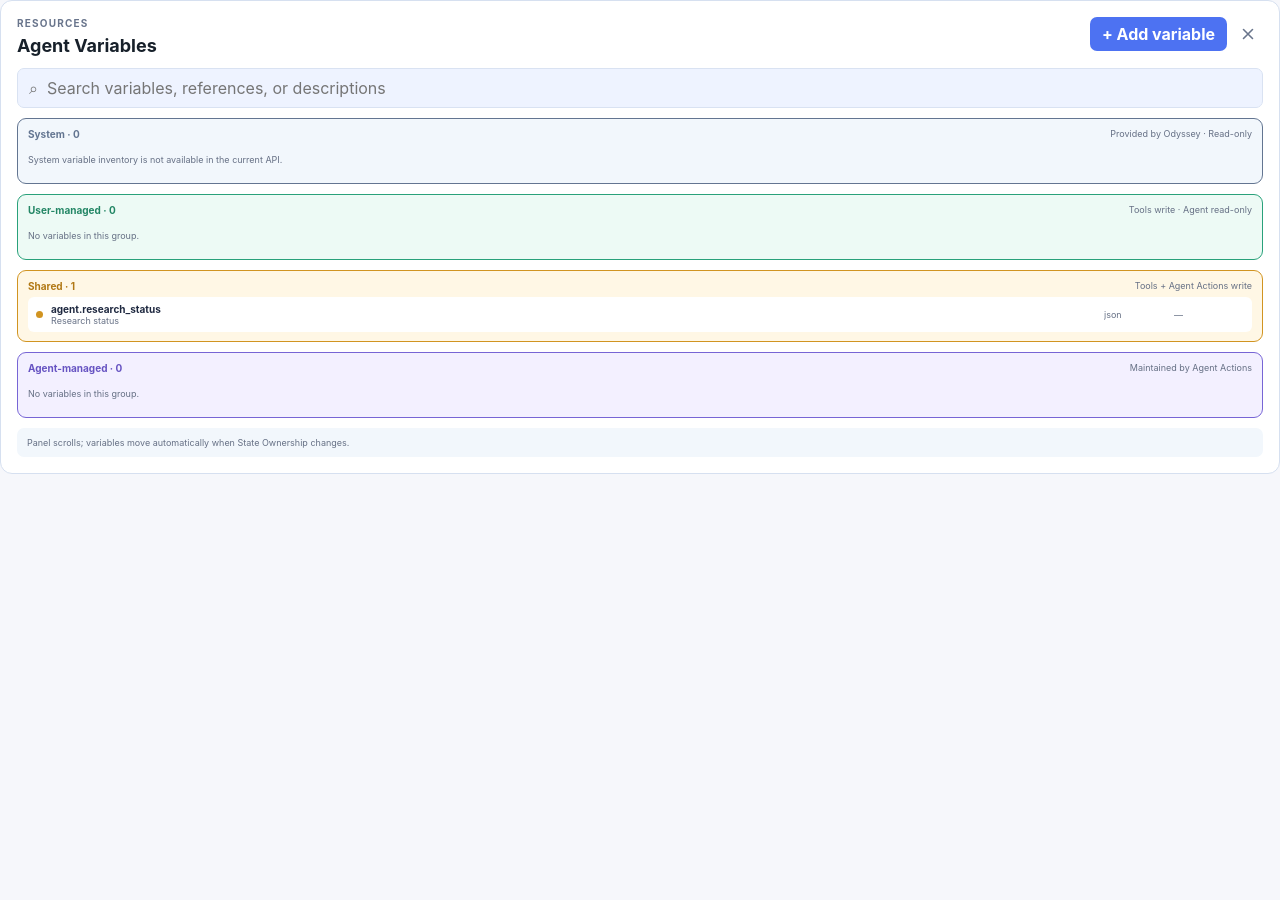
Test case: AgentVariablesPanel › uses the styled listbox for the variable data type
The image size is (1280, 900).
Click the button "+ Add variable" at (1158, 34), box [1090,17,1227,51]
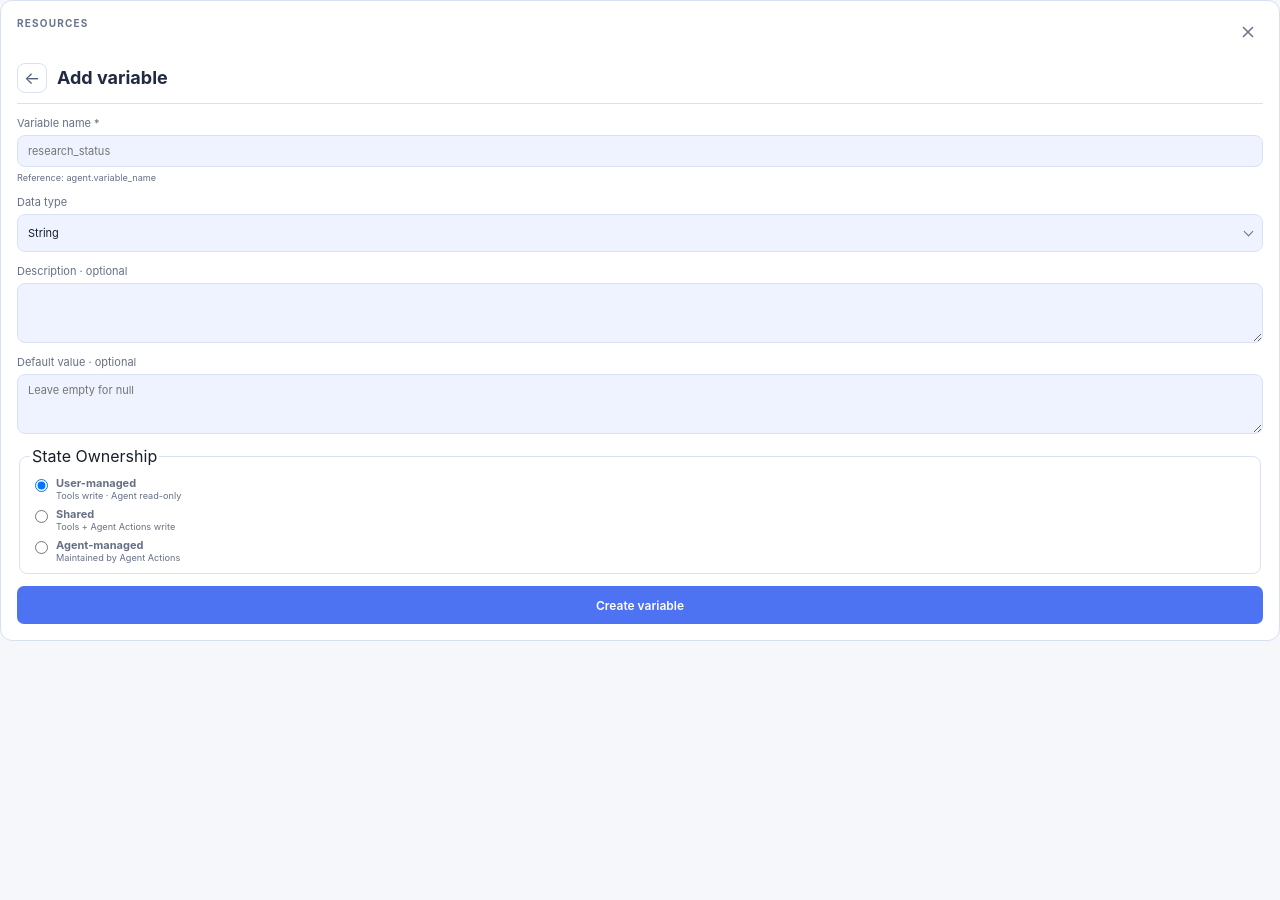
Click the button with aria-label "Data type: String" at (43, 232), box [17,214,1263,252]
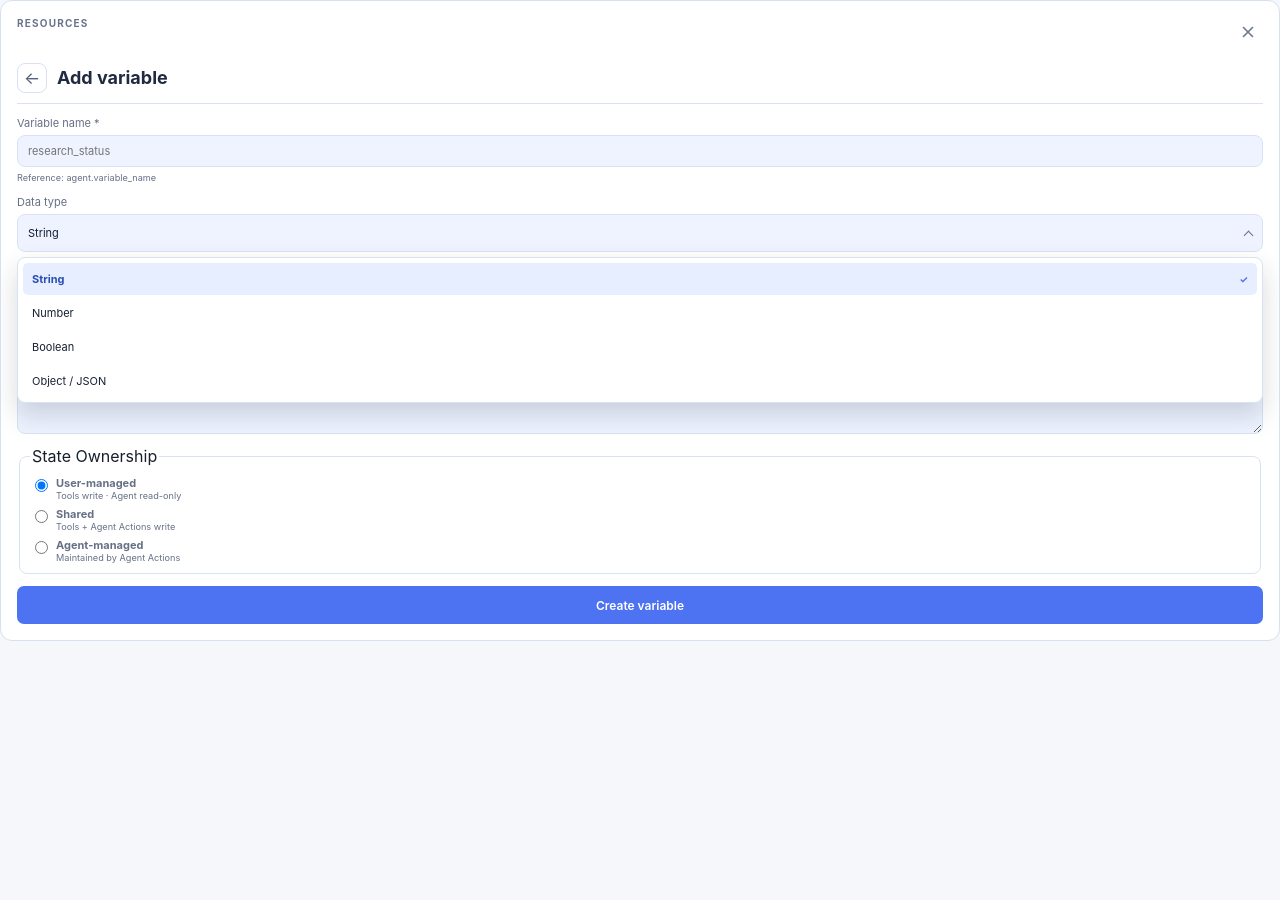
Click the option "Boolean" at (53, 346), box [23,331,1257,363]
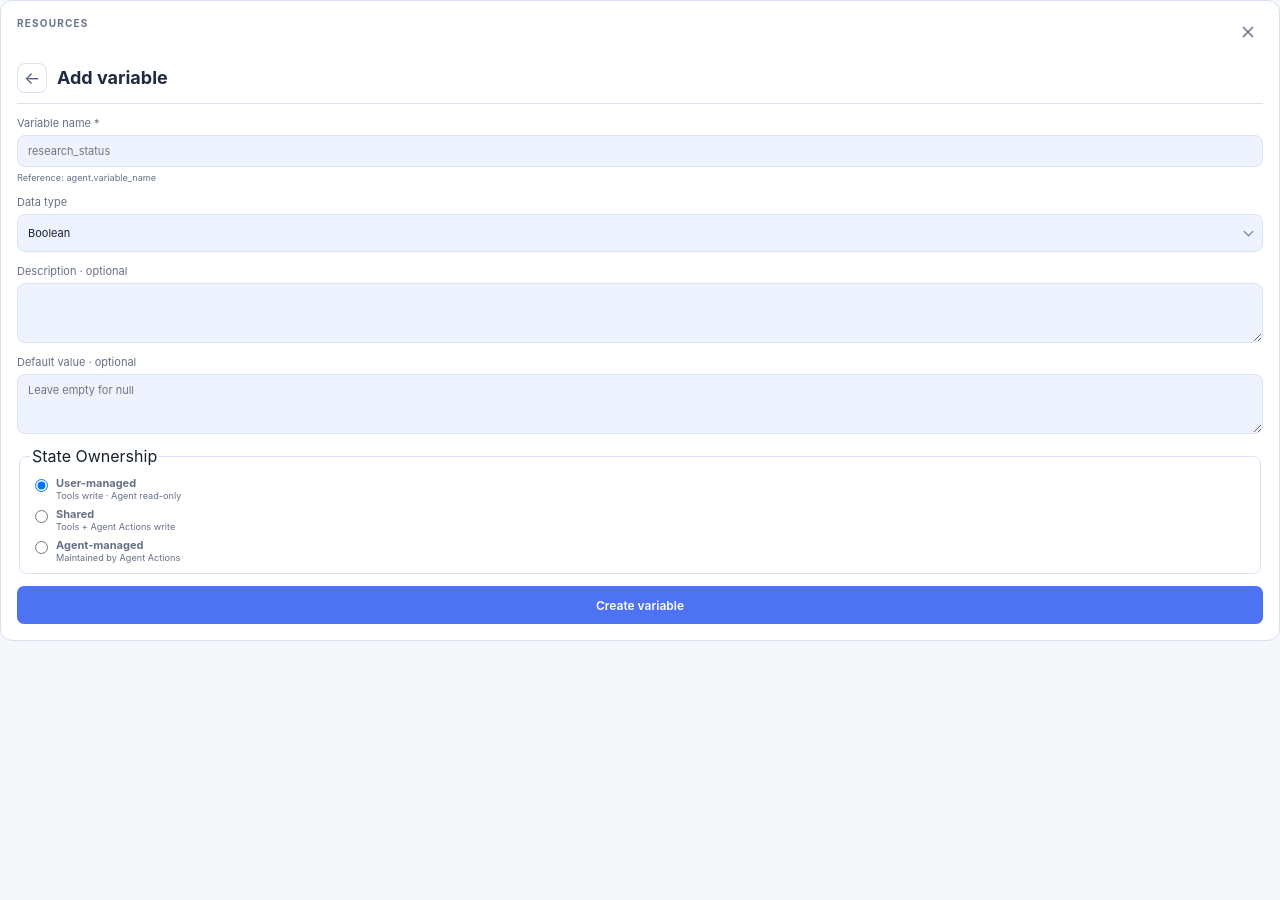
Expected: the button with aria-label "Data type: Boolean" reads "Boolean", [17,214,1263,252]
